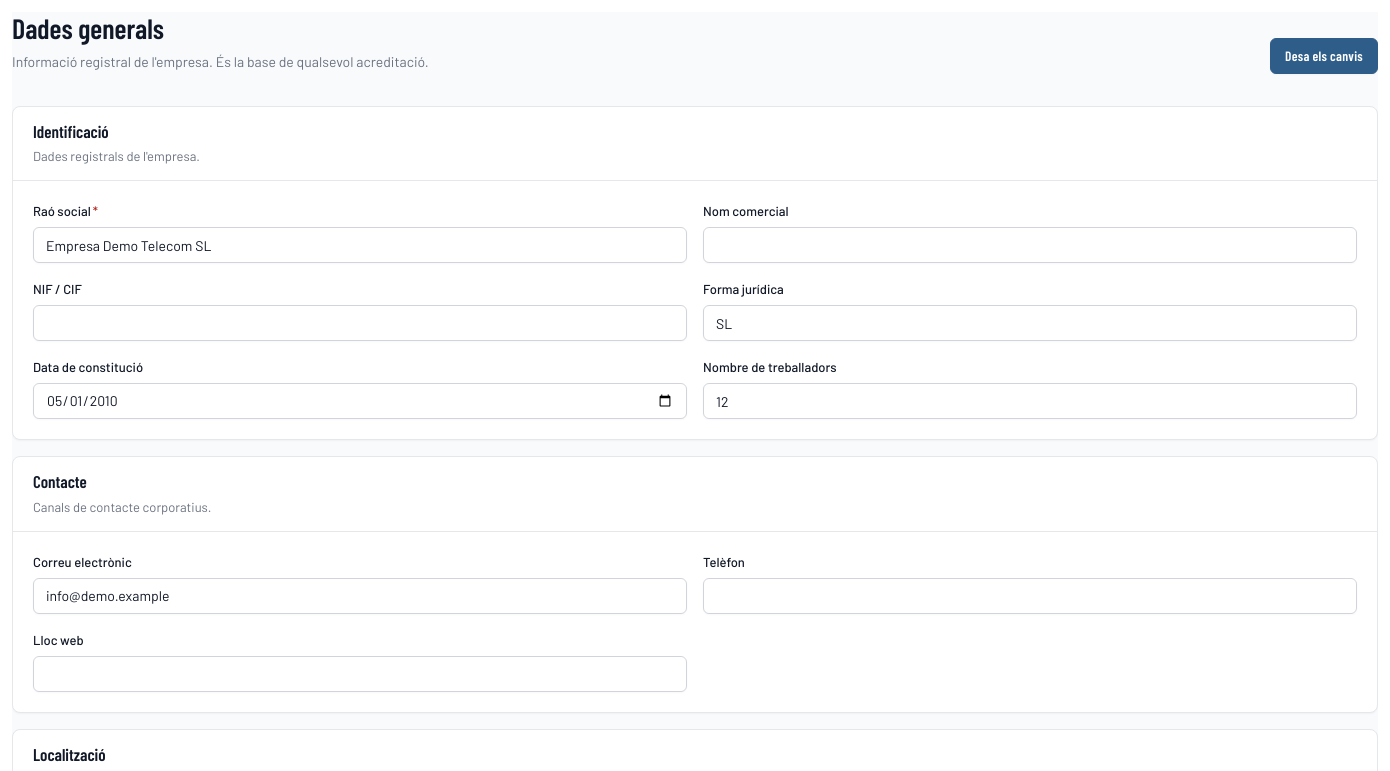
Dades generals a /empresa/dades › desa igual que abans: PATCH /companies/{id} amb cleanPayload i employee_count numèric
The width and height of the screenshot is (1390, 771).
Type "Demo Telecom" into the field labelled "Nom comercial" at (1030, 245), box [703,227,1357,263]
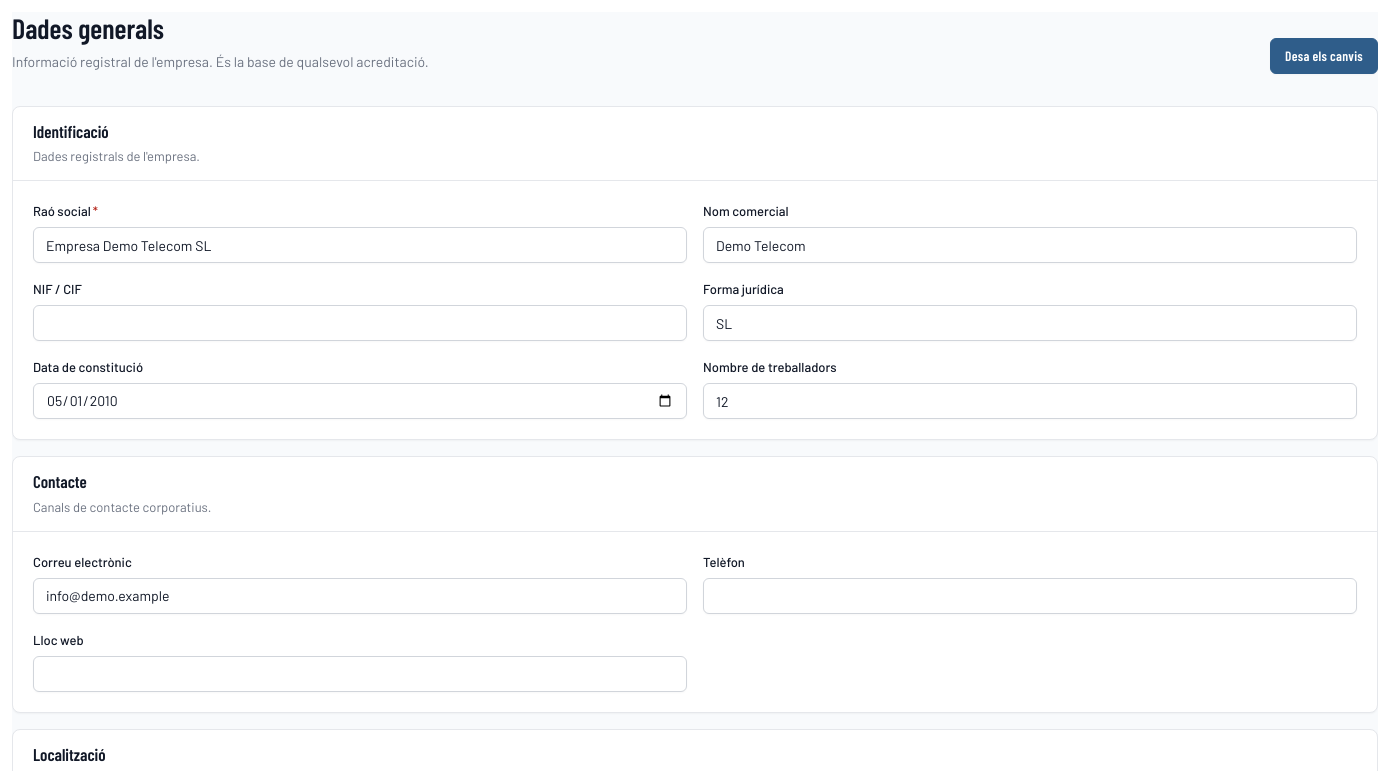
Click the button "Desa els canvis" at (1324, 56), box [1270,38,1378,74]
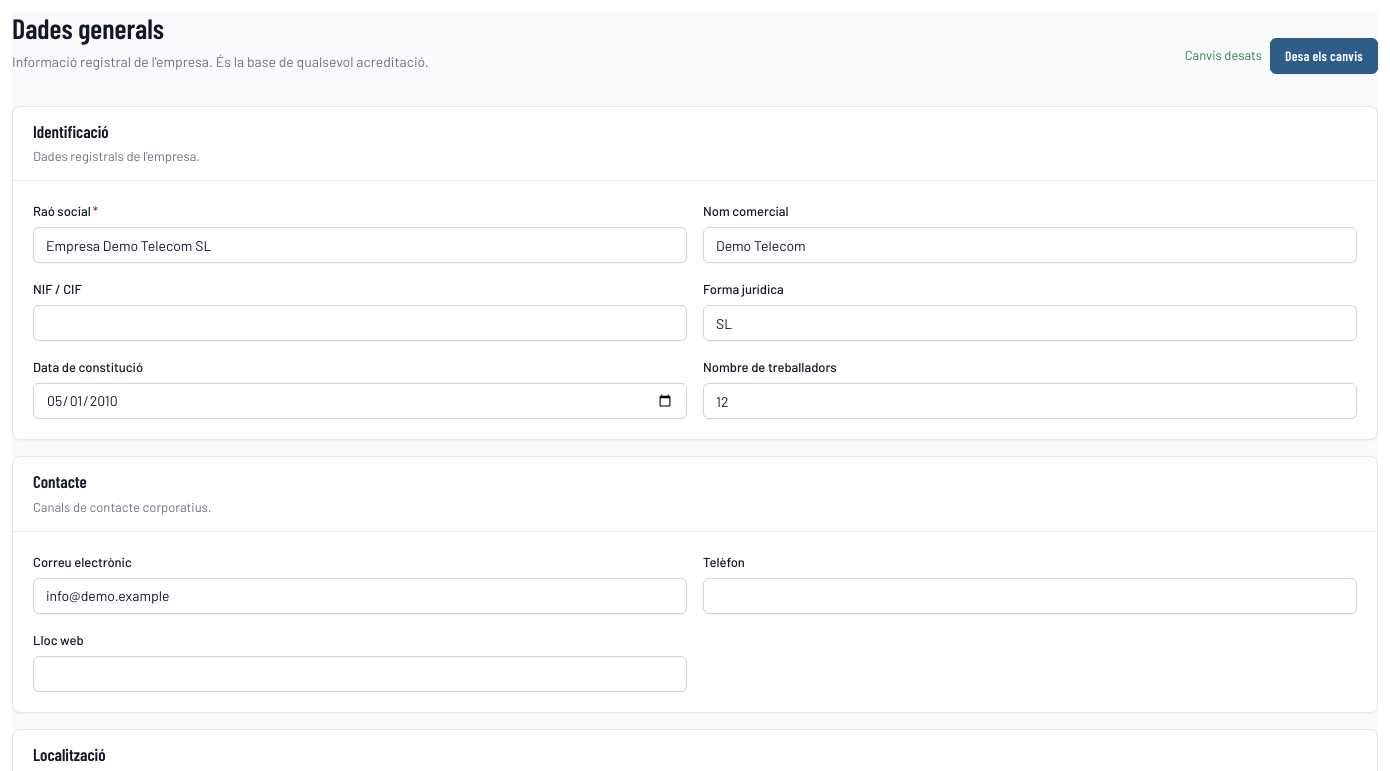
Expected: the text "Canvis desats" is shown, [1185,46,1262,66]
